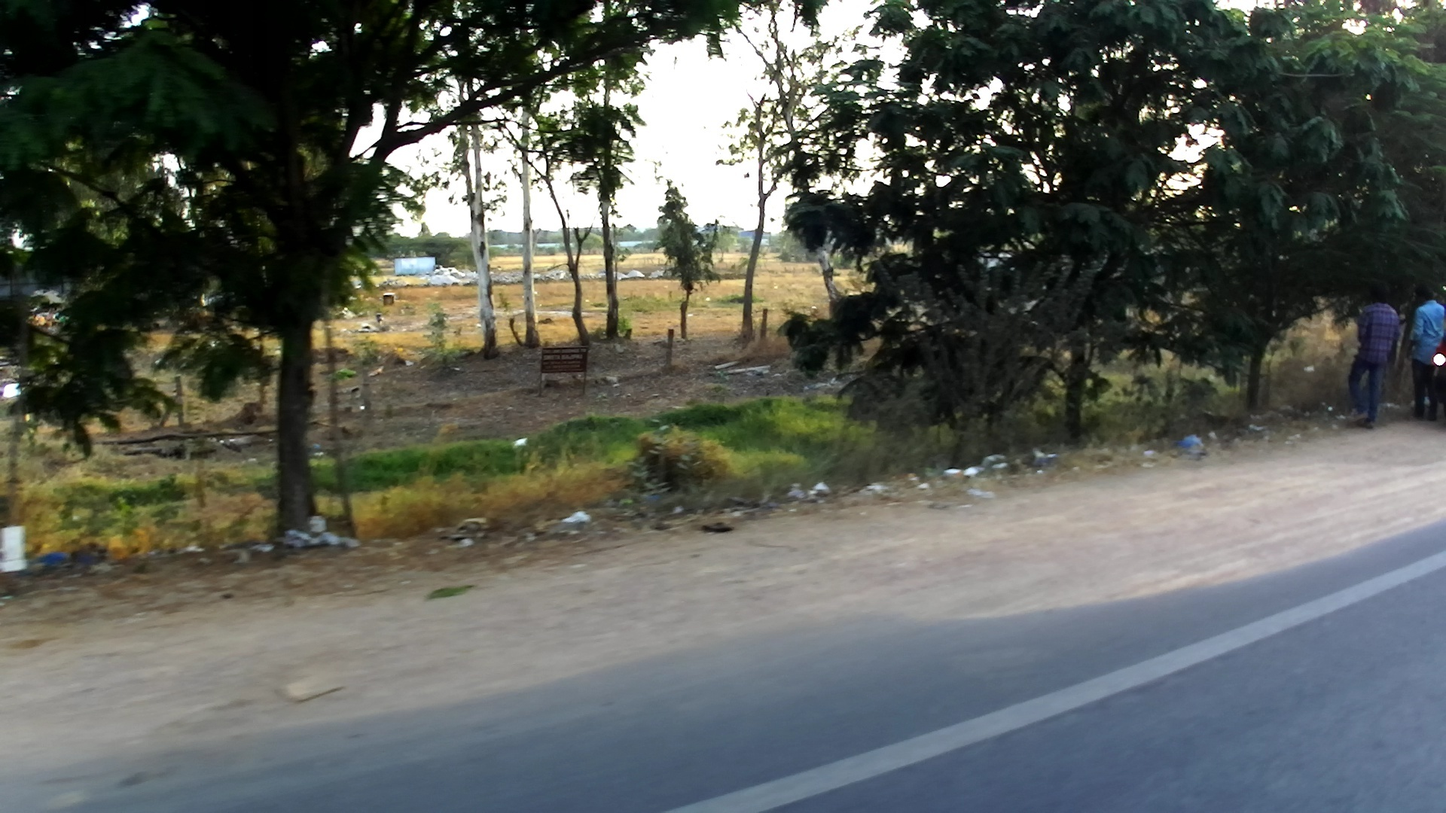person: (1347, 284, 1407, 435), (1405, 282, 1444, 425)
